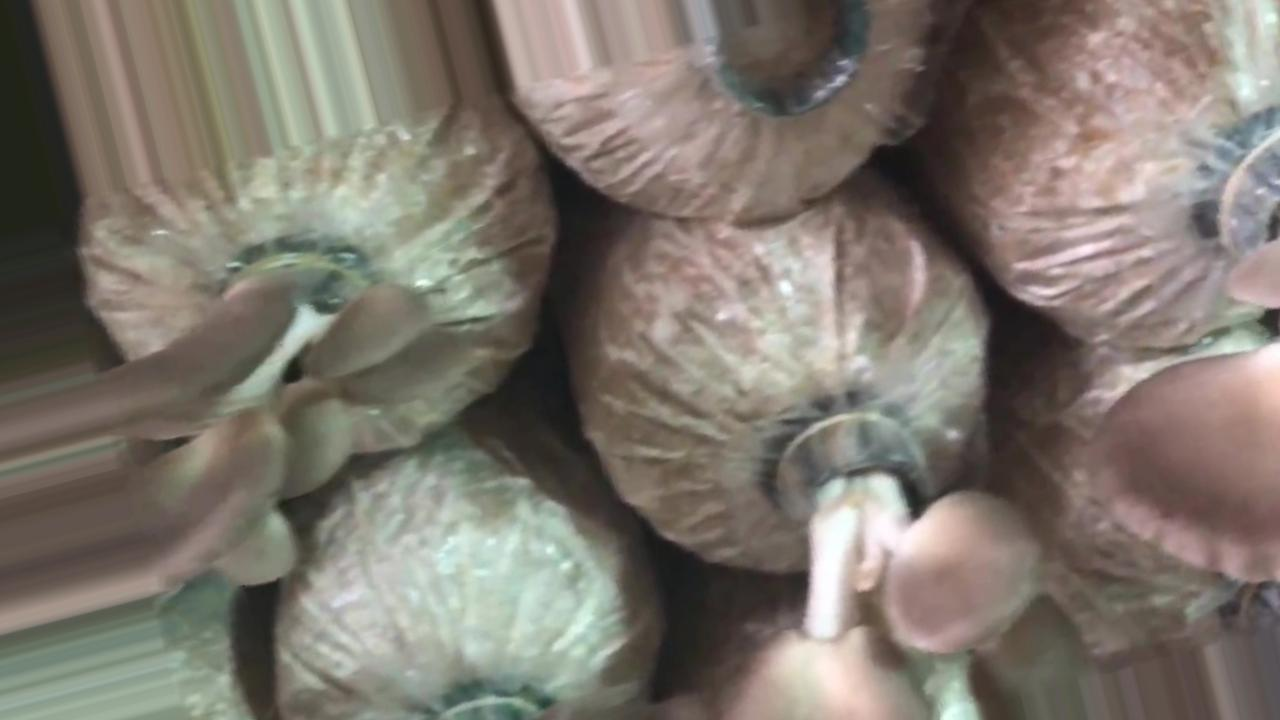nam: (150, 248, 474, 591), (718, 400, 1053, 720), (1088, 114, 1280, 589)
